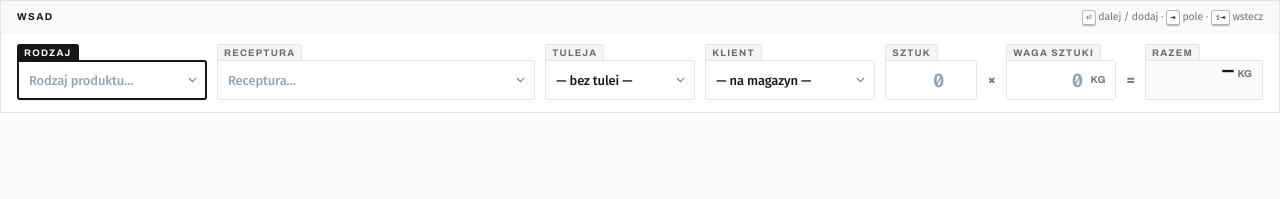
Test case: PlanTerminal › pokazuje kilogramy pozycji przy wpisywaniu
This screenshot has width=1280, height=199.
Step 1. Type "drobiowy" into the field labelled "Rodzaj" → {"x": 112, "y": 80}, box x1=17 y1=60 x2=207 y2=100
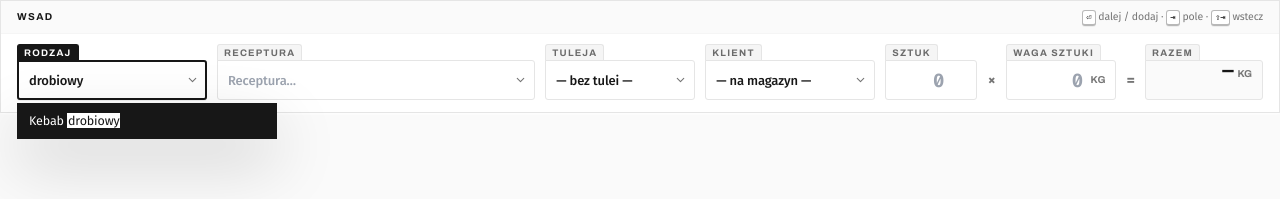
Step 2. Press Enter in the field named "Rodzaj", box x1=17 y1=60 x2=207 y2=100
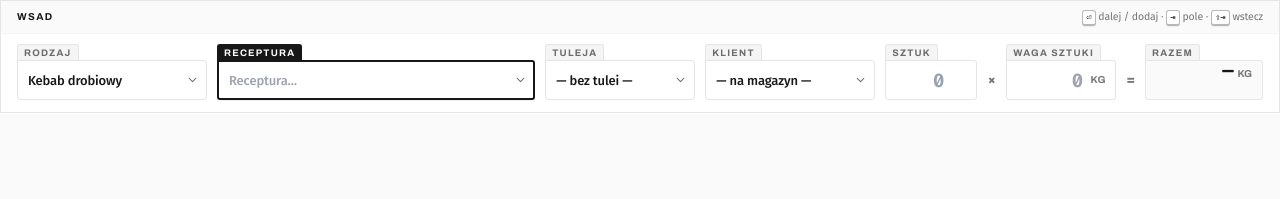
Step 3. Type "WROC" into the field labelled "Receptura" → {"x": 376, "y": 80}, box x1=217 y1=60 x2=535 y2=100
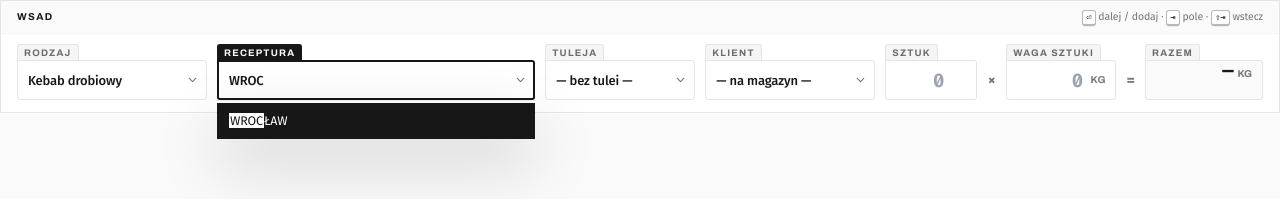
Step 4. Press Enter in the field named "Receptura", box x1=217 y1=60 x2=535 y2=100
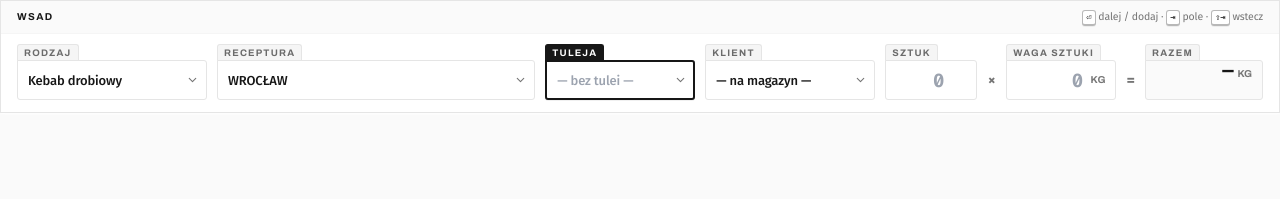
Step 5. Type "20" into the field named "Sztuk" → {"x": 931, "y": 80}, box x1=885 y1=60 x2=977 y2=100
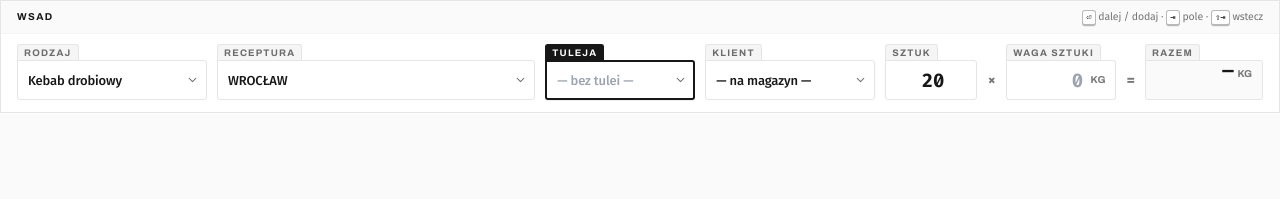
Step 6. Type "35" into the field named "Waga sztuki" → {"x": 1061, "y": 80}, box x1=1006 y1=60 x2=1116 y2=100
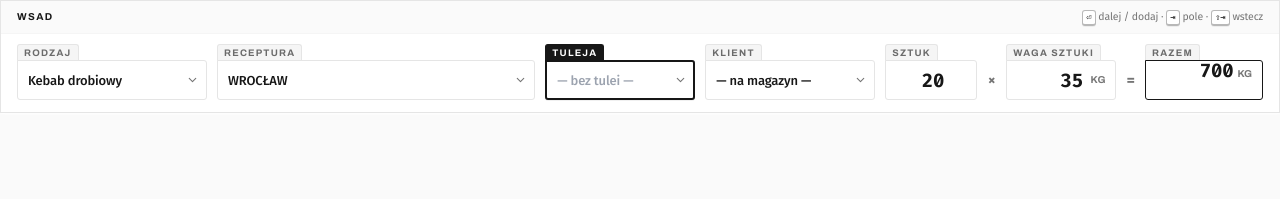
Check: the text with test id "plan-draft-kg" reads "700", box x1=1200 y1=58 x2=1234 y2=83
